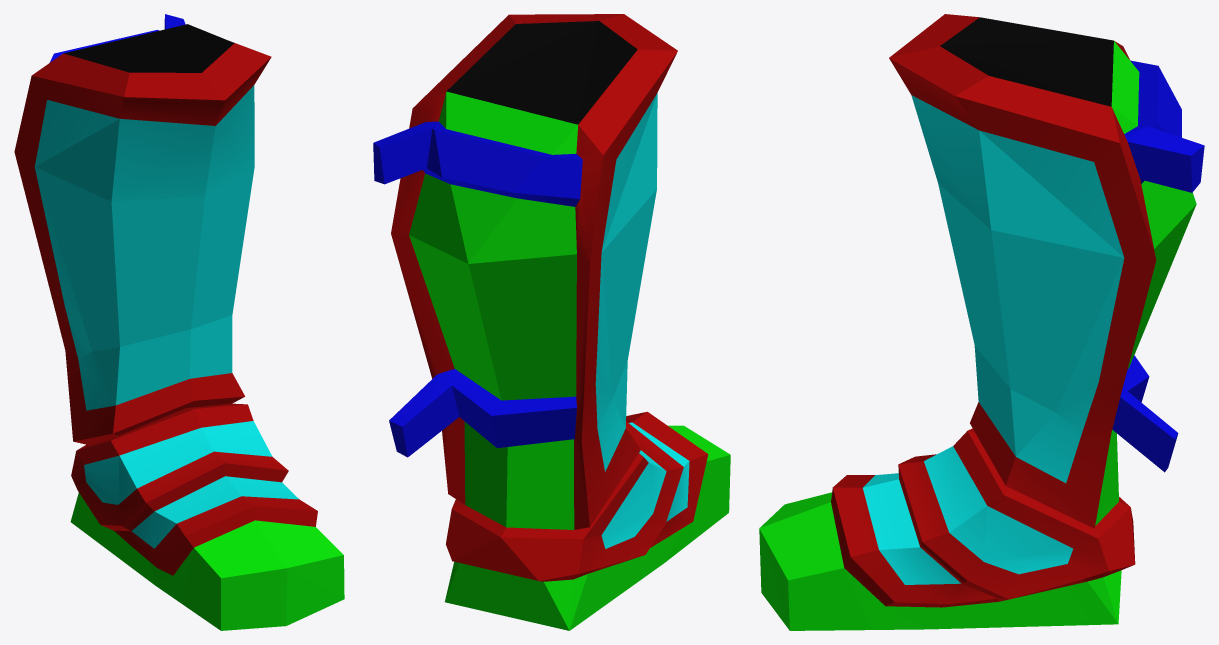
The model's file is Chr_LegRight_Male_Static_16.fbx.
3 renders of one model, left to right at view 1: azimuth 30°, elevation 25°; view 2: azimuth 150°, elevation 25°; view 3: azimuth 270°, elevation 25°, orthographic. The views are drawn at different scales.
Parts seen in each view (by area): view 1: Chr_LegRight_Male_16; view 2: Chr_LegRight_Male_16; view 3: Chr_LegRight_Male_16.
Part boxes in pixels (bbox=[...]): Chr_LegRight_Male_16: bbox=[14, 14, 344, 630]; Chr_LegRight_Male_16: bbox=[373, 14, 730, 630]; Chr_LegRight_Male_16: bbox=[759, 14, 1204, 630].
Bounding box in the file's own units: 15.82 × 40.4 × 29.94.
